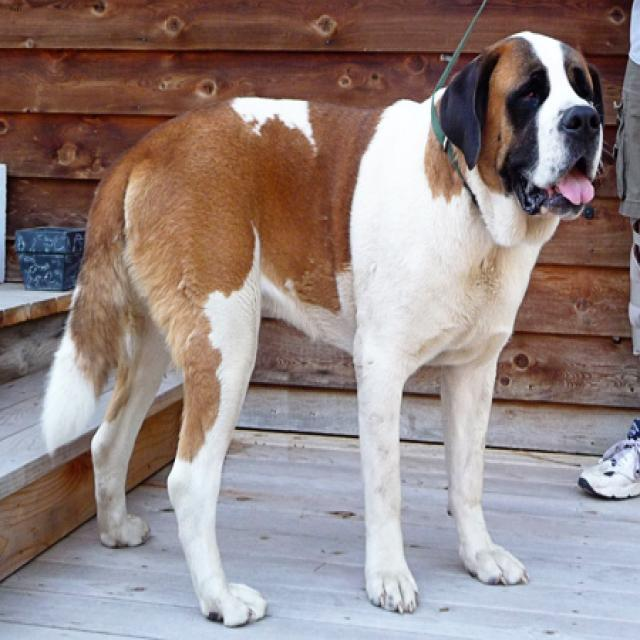dog-saint_bernard: (34, 23, 622, 632)
